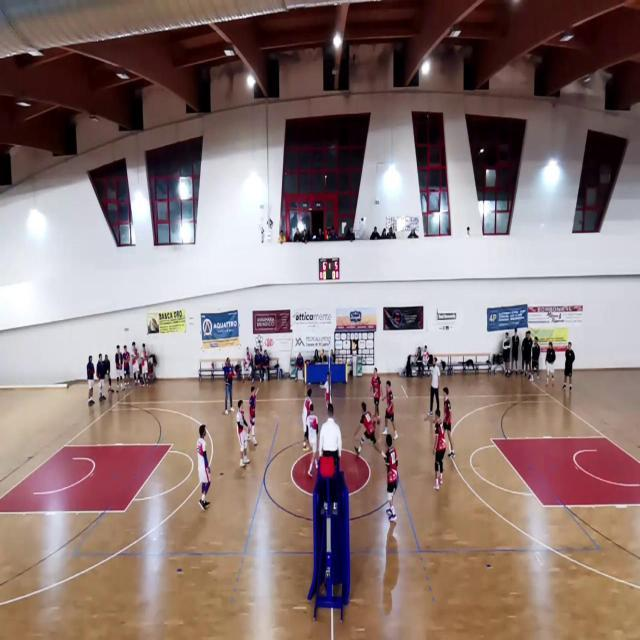volleyball: (346, 359, 354, 368), (504, 368, 510, 376)
